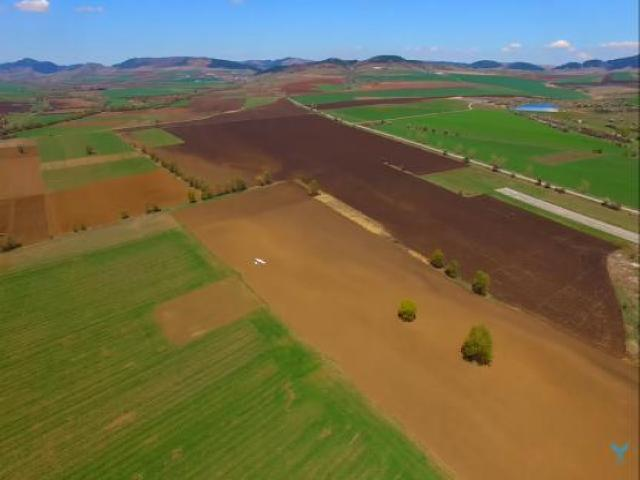uav: (251, 250, 269, 269)
